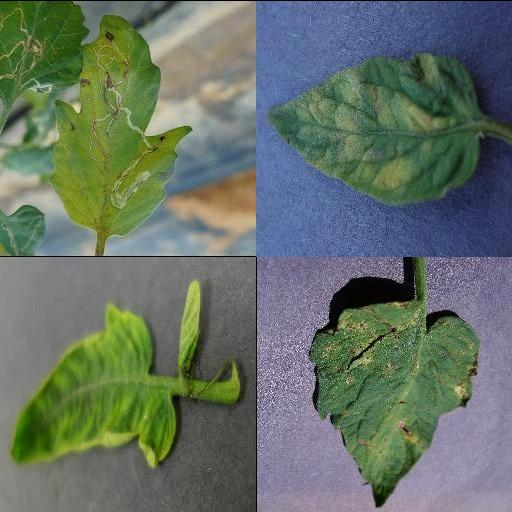Leaf Miner: (49, 15, 195, 237)
Leaf Mold: (267, 51, 483, 205)
Septoria: (306, 296, 478, 508)
Yellow Leaf Curl Virus: (8, 302, 180, 468), (180, 277, 202, 369)
